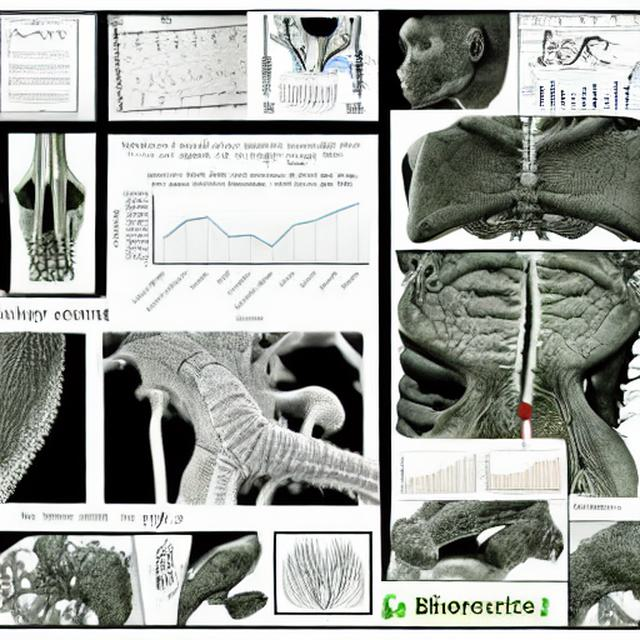Graph: (110, 167, 373, 325), (521, 68, 622, 114), (478, 448, 563, 498), (1, 21, 72, 62), (279, 78, 339, 114)
